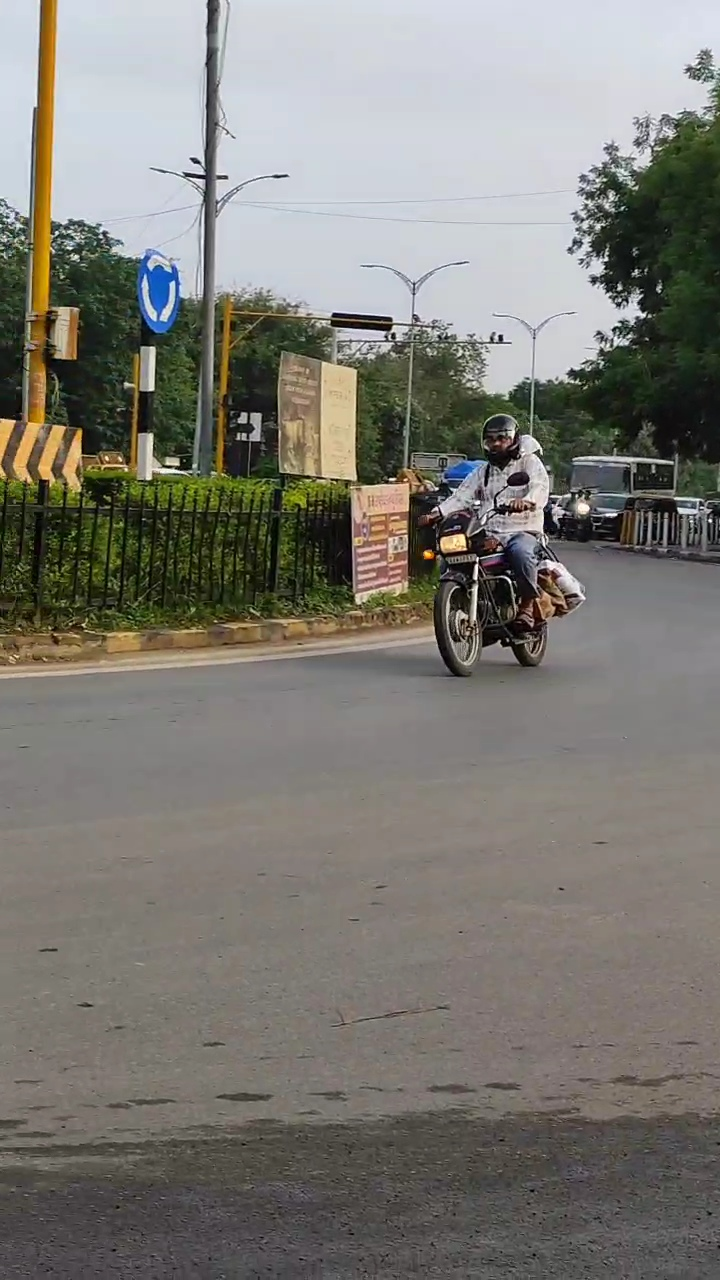BikeWithRider: (415, 410, 564, 682)
Helmet: (479, 412, 524, 464)
